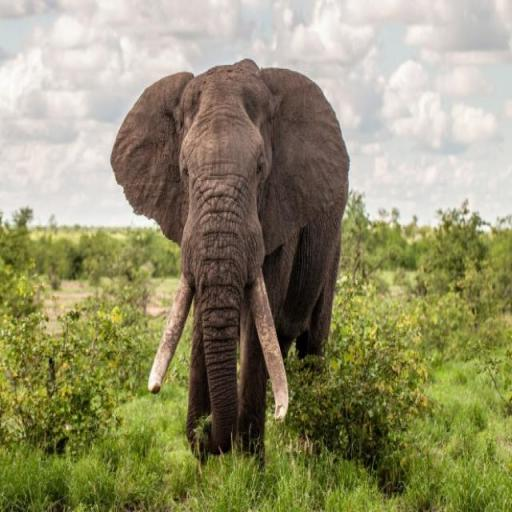Elephant: (109, 57, 351, 464)
